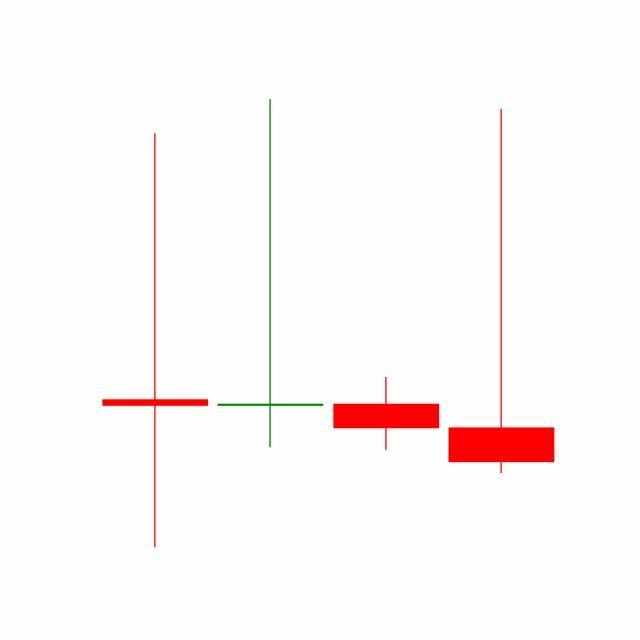Gravestone Doji: (444, 106, 560, 478)
